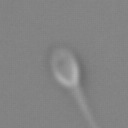normal: (68, 87, 97, 127)
